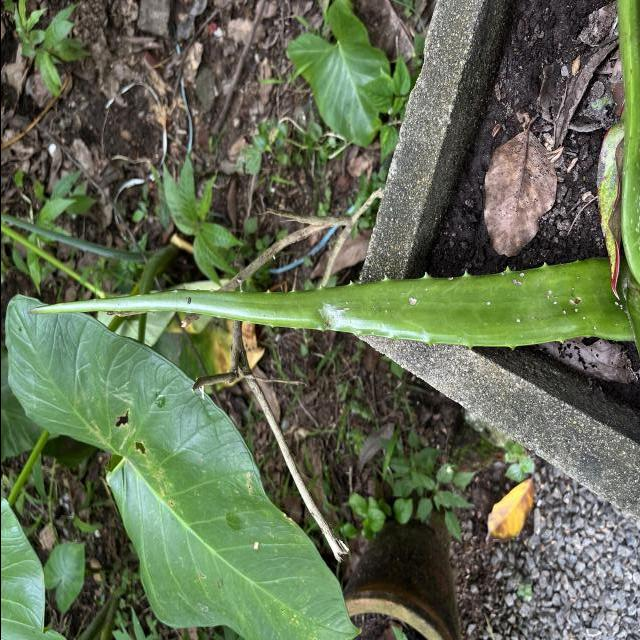Aloe vera: (31, 245, 622, 354)
